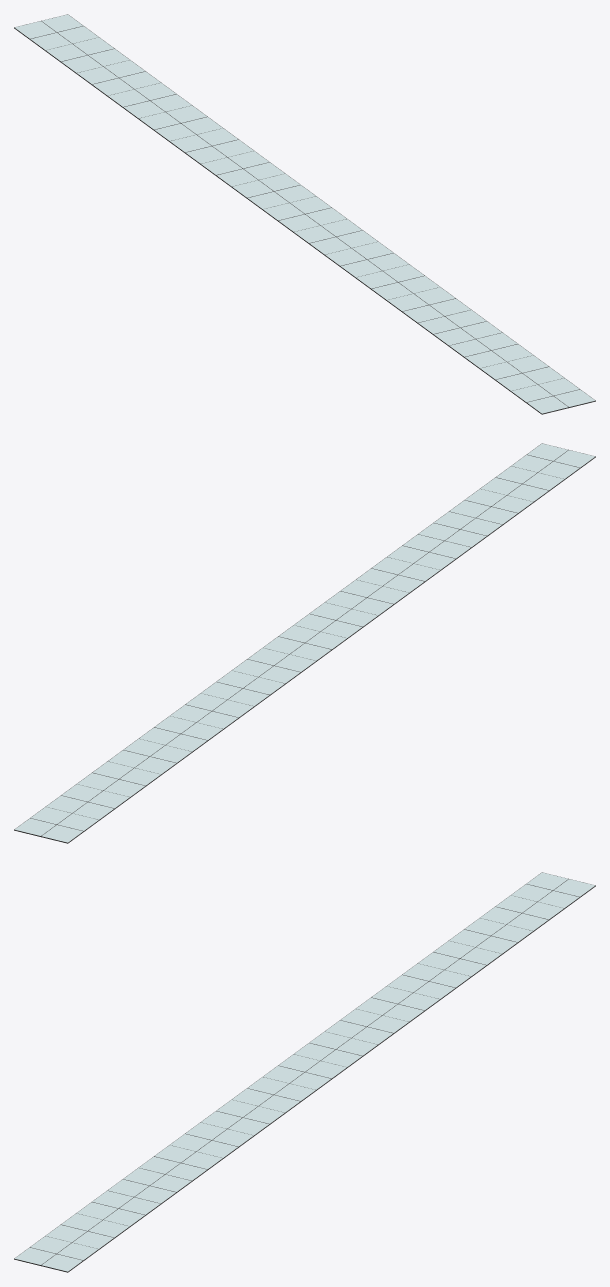
File: sidewalk_3_assembled.fbx
The picture shows the model from 3 angles, top to bottom: view 1: azimuth 30°, elevation 25°; view 2: azimuth 150°, elevation 25°; view 3: azimuth 330°, elevation 25°; orthographic projection.
Visible parts, largest first — view 1: Plane.156; view 2: Plane.156; view 3: Plane.156.
Boxes of the visible parts, bbox=[...] form: Plane.156: bbox=[14, 14, 595, 414]; Plane.156: bbox=[14, 443, 595, 843]; Plane.156: bbox=[14, 872, 595, 1272].
Bounding box in the file's own units: 2 × 0.0277 × 33.86.
1 material, 1 textured.
